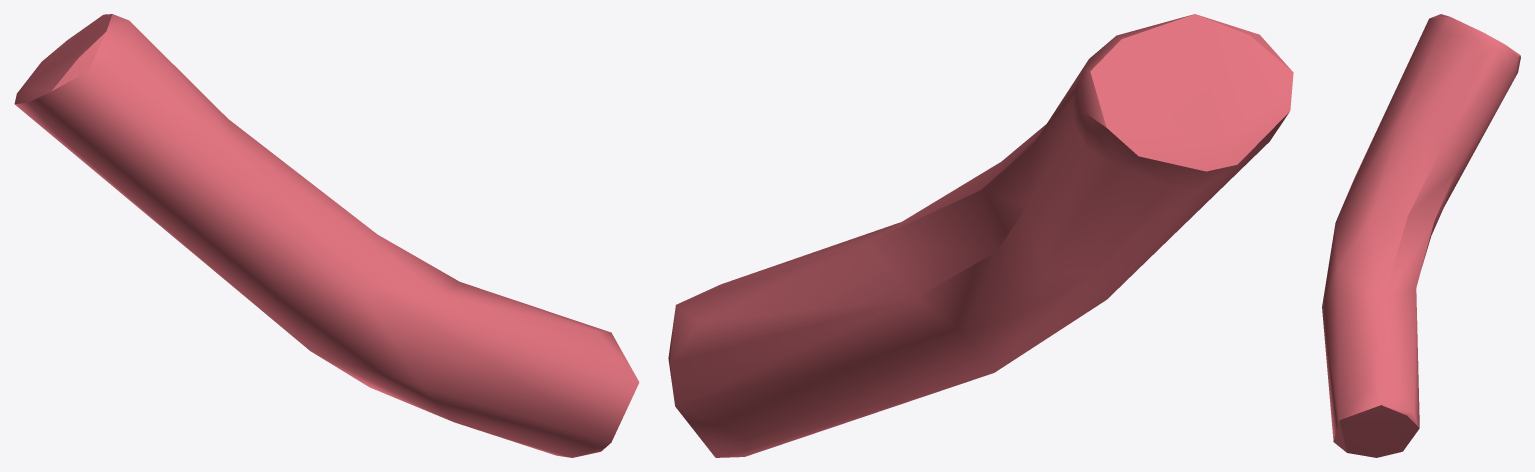
File: fma68133_fj5969.glb
3 renders of one model, left to right at view 1: azimuth 30°, elevation 25°; view 2: azimuth 150°, elevation 25°; view 3: azimuth 270°, elevation 25°, orthographic. The views are drawn at different scales.
Visible parts, largest first — view 1: FMA68133_FJ5969; view 2: FMA68133_FJ5969; view 3: FMA68133_FJ5969.
Boxes of the visible parts, bbox=[...] form: FMA68133_FJ5969: bbox=[14, 14, 639, 457]; FMA68133_FJ5969: bbox=[668, 14, 1293, 457]; FMA68133_FJ5969: bbox=[1322, 14, 1520, 457].
Bounding box in the file's own units: 0.0103 × 0.00885 × 0.00512.
